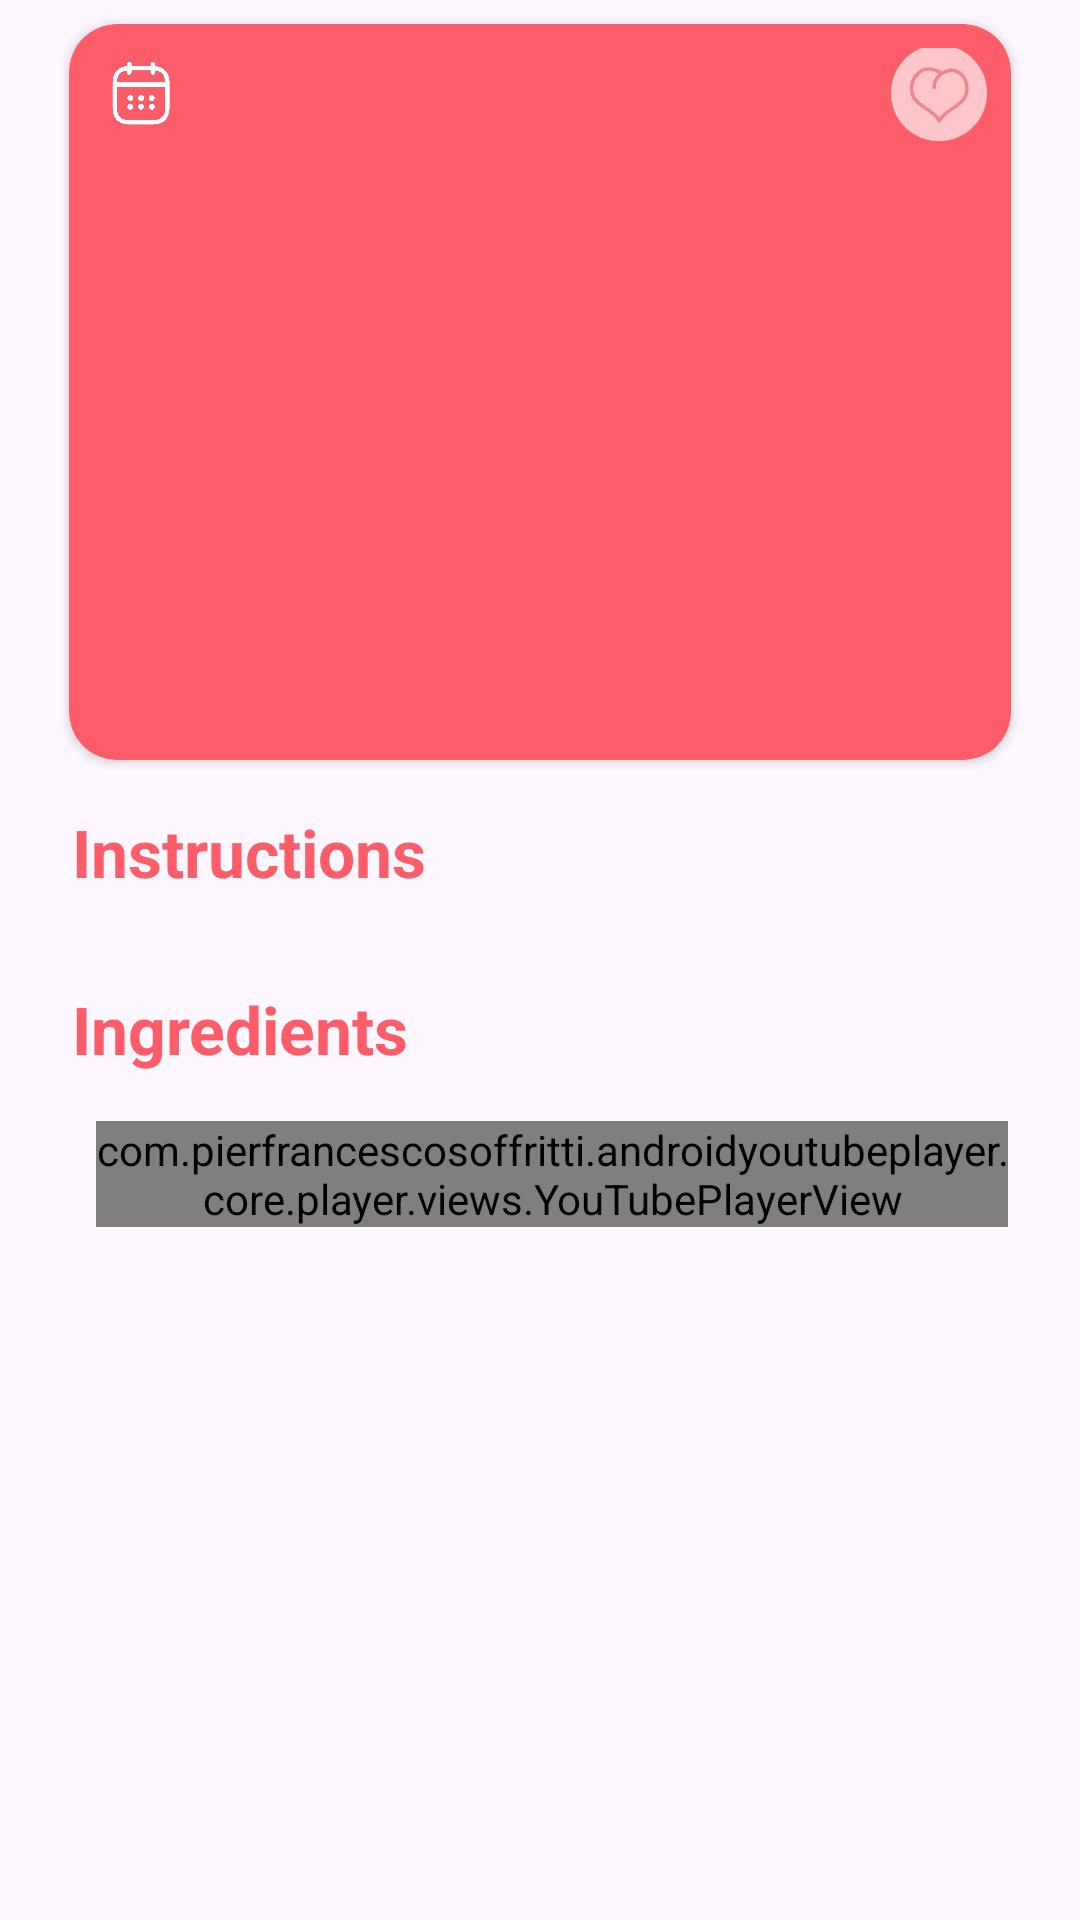

Point at icon controls on the screen. Image size 1080×1920, points as point (x, y).
add to calender: point (141, 93)
add to favorites: point (939, 94)
